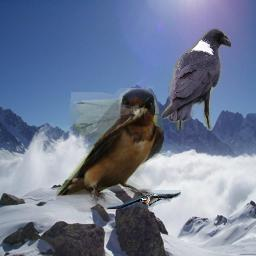Crow: (161, 28, 231, 130)
Swallow: (56, 88, 164, 212), (106, 190, 181, 209)
